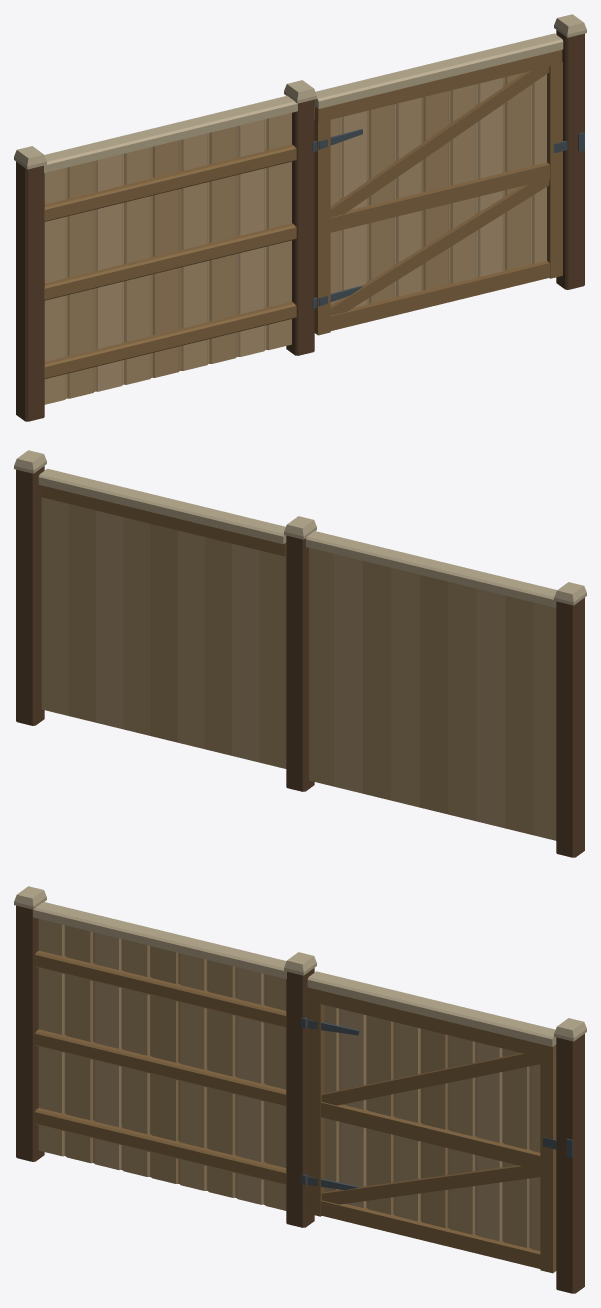
Rendered from board-privacy-fence-run-319bef.glb.
3 views of the same model, one above another, from view 1: azimuth 30°, elevation 25°; view 2: azimuth 150°, elevation 25°; view 3: azimuth 330°, elevation 25° (orthographic).
Parts seen in each view (by area): view 1: fence, gate-leaf; view 2: fence, gate-leaf; view 3: fence, gate-leaf.
Boxes of the visible parts, x1=… form: fence: x1=14, y1=14, x2=586, y2=421; gate-leaf: x1=314, y1=33, x2=567, y2=335; fence: x1=14, y1=450, x2=586, y2=857; gate-leaf: x1=38, y1=468, x2=286, y2=768; fence: x1=14, y1=886, x2=586, y2=1293; gate-leaf: x1=307, y1=971, x2=556, y2=1273.
Size of the model in its own units: 4 by 1.8 by 0.164.
